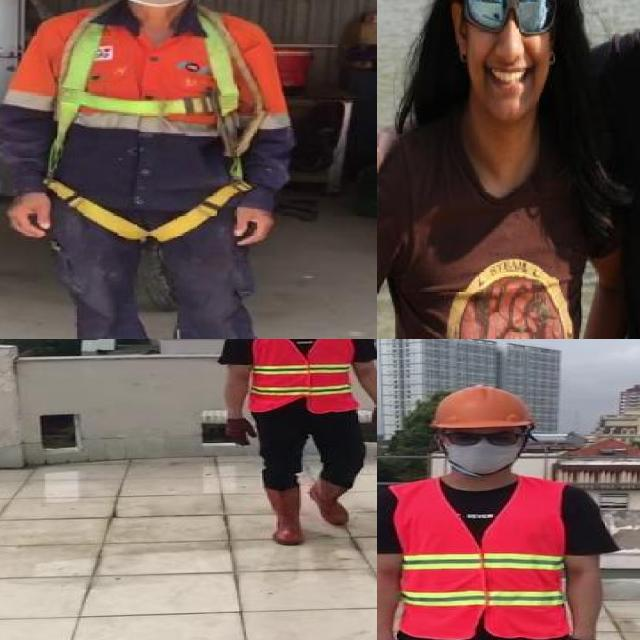boots: (262, 487, 308, 545), (308, 474, 356, 526)
face_mask: (442, 427, 522, 474)
face_nomask: (458, 0, 561, 111)
glasses: (460, 0, 557, 39), (440, 426, 522, 452)
hand_glove: (224, 418, 258, 445), (370, 409, 377, 429)
hand_noglove: (0, 184, 57, 244), (230, 200, 276, 252), (377, 127, 395, 224)
head_helmet: (426, 381, 538, 433)
person: (0, 0, 303, 339), (377, 0, 614, 339), (377, 380, 615, 640), (219, 339, 377, 552), (575, 0, 640, 339)
vest: (390, 476, 568, 640), (242, 339, 357, 413)
